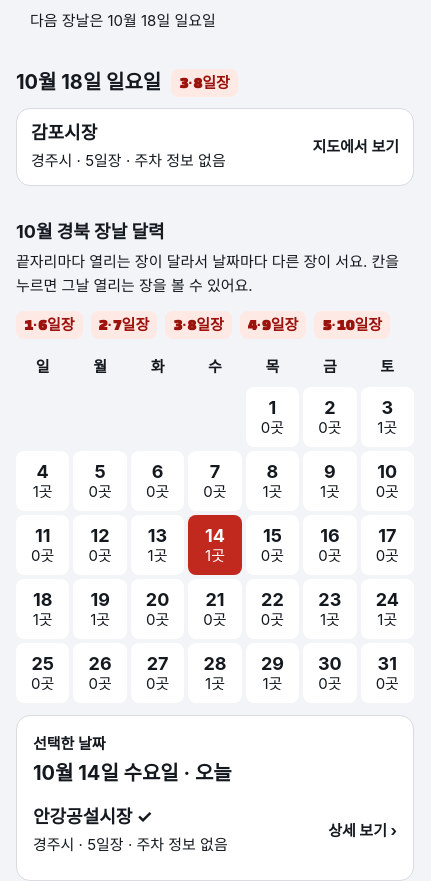
it: RegionToday › shows the selected day's markets when a calendar cell is pressed
(page scrolled)
Click the button named "10월 23일, 3·8일장, 1곳" at [330, 609], box [303,579,356,639]
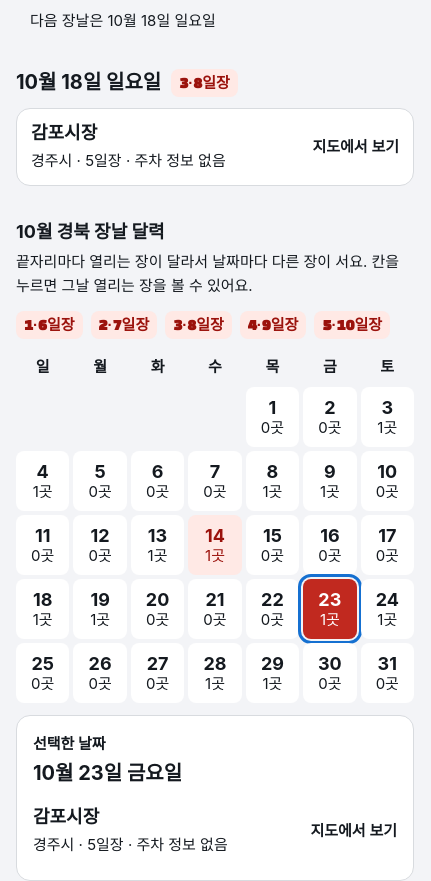
Check: the element "장날 달력" shows "10월 23일 금요일", box [33,761,182,785]
Check: the text "감포시장" below "10월 23일 금요일" is shown, box [33,806,99,827]
